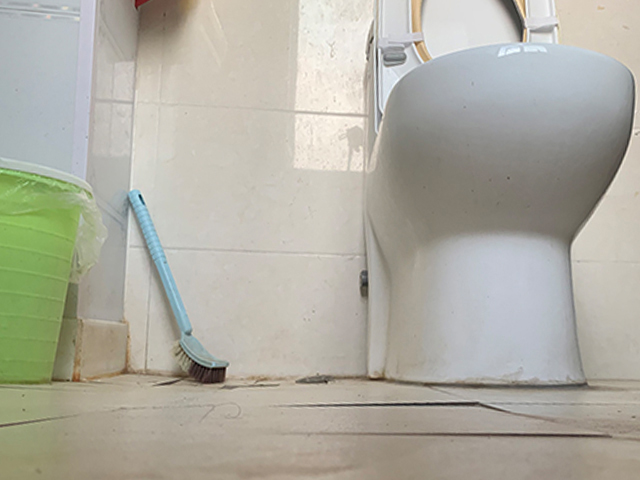closestool: (364, 1, 640, 388)
trashcan: (1, 158, 94, 386)
